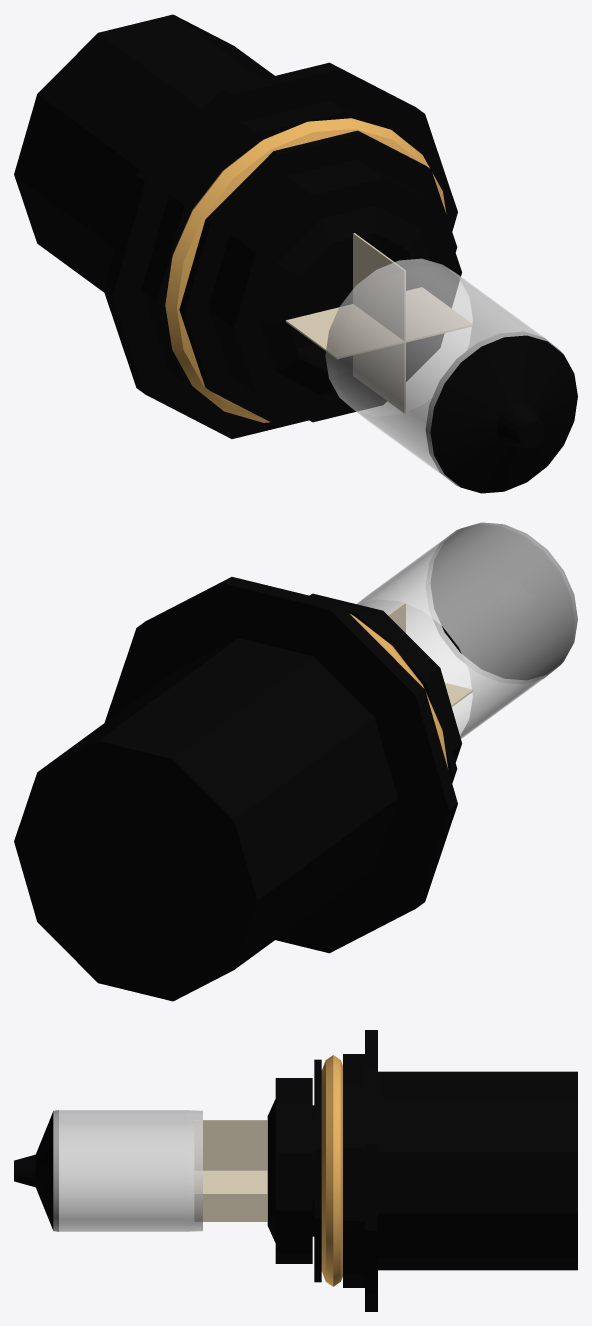
File: BULB.fbx
3 views of the same model, one above another, from view 1: azimuth 30°, elevation 25°; view 2: azimuth 150°, elevation 25°; view 3: azimuth 270°, elevation 25° (orthographic). The views are drawn at different scales.
Parts seen in each view (by area): view 1: pCylinder4; view 2: pCylinder4; view 3: pCylinder4.
Part boxes in pixels (x1,y1,x2,y2): pCylinder4: (14,14,577,493); pCylinder4: (14,522,577,1001); pCylinder4: (14,1030,577,1311).
Bounding box in the file's own units: 2.53 × 2.41 × 5.03.
